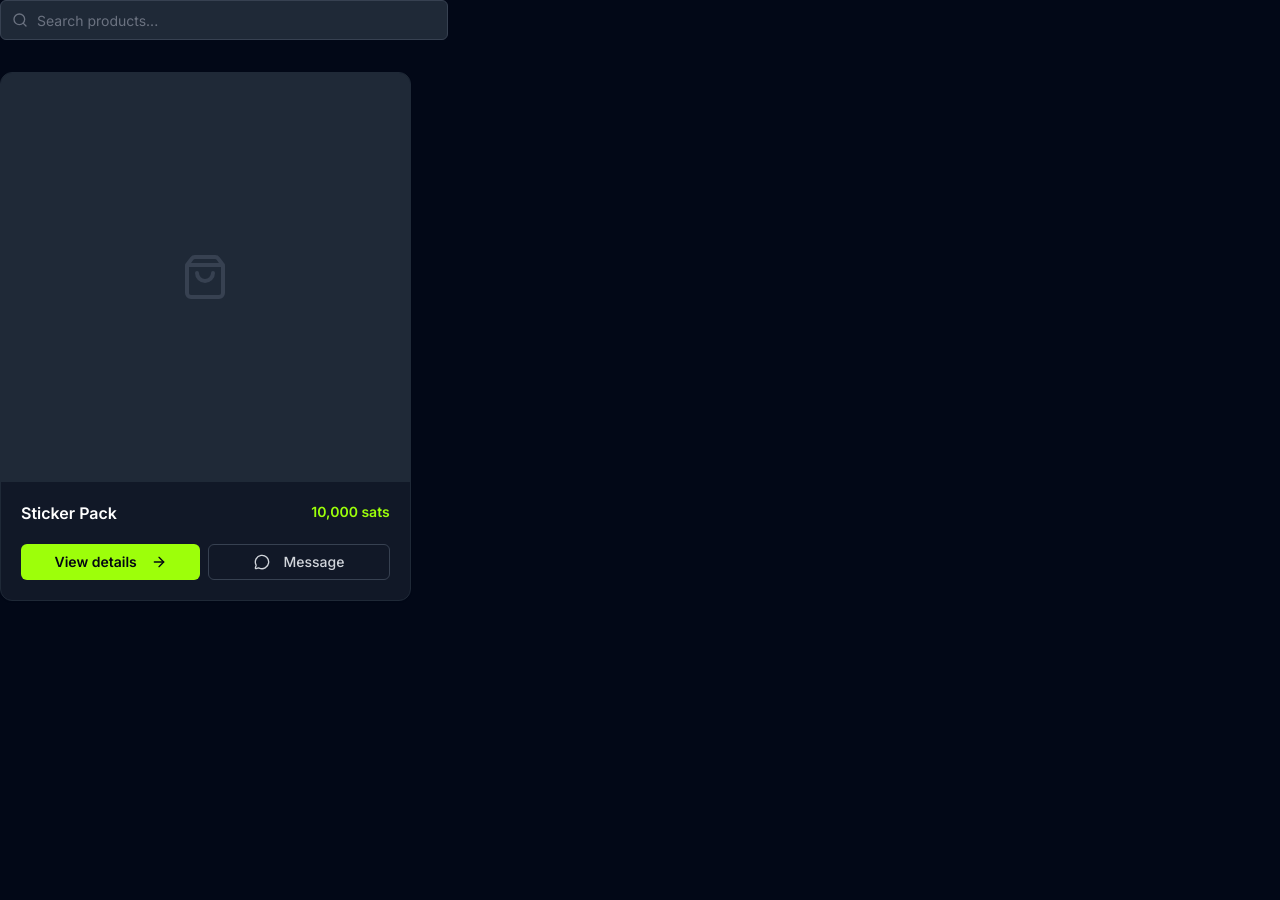
ShopListings › opens the contact panel prefilled when Message is clicked
The width and height of the screenshot is (1280, 900).
Expected: the element with test id "shop-listings" is shown, [0,0,448,601]
Click the button "Message". click: (299, 562)
box: [208,544,390,580]
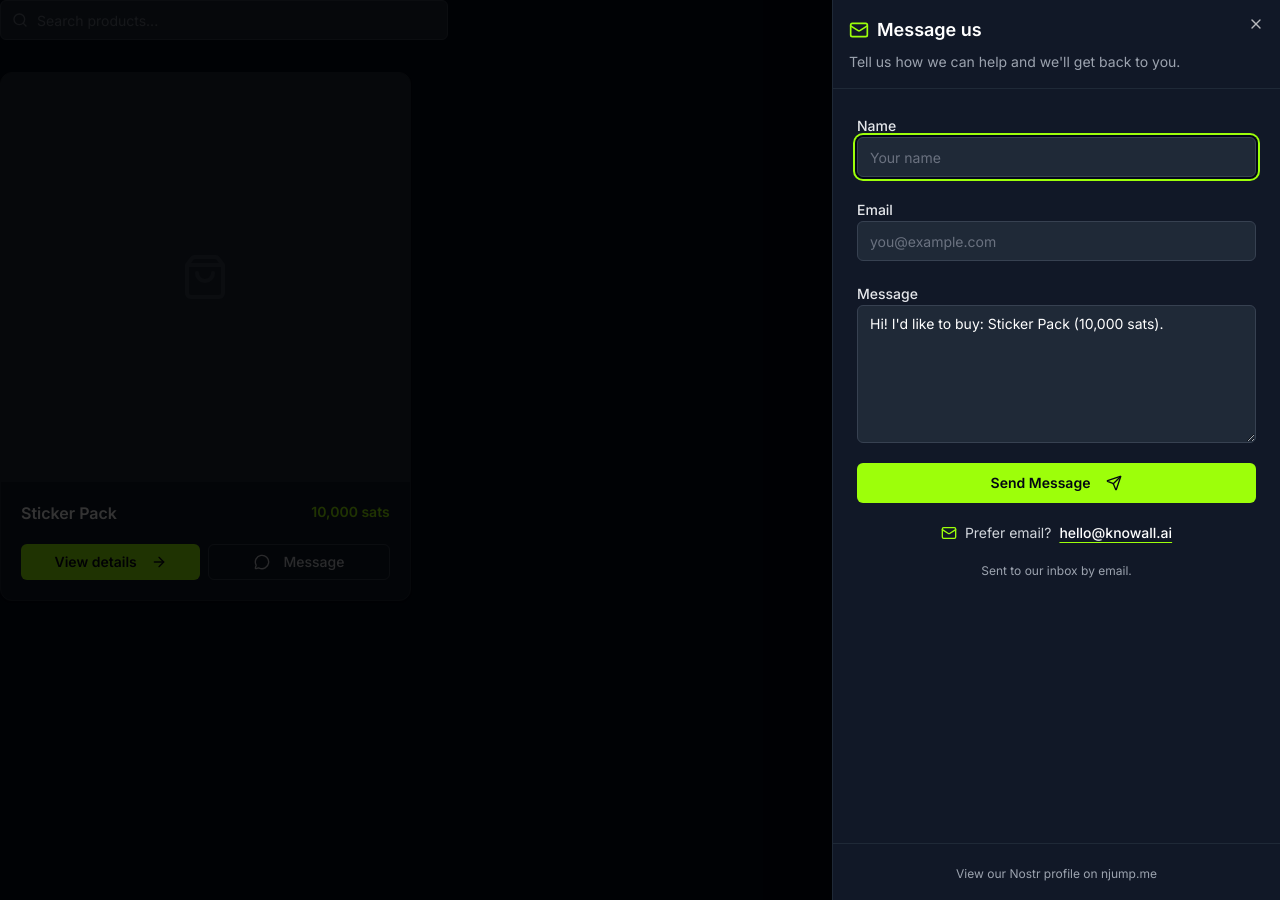
Expected: the heading "Message us" is shown, [849,19,982,40]
Expected: the text box labelled "Message" holds "Hi! I'd like to buy: Sticker Pack (10,000 sats). ", [857,305,1256,443]
